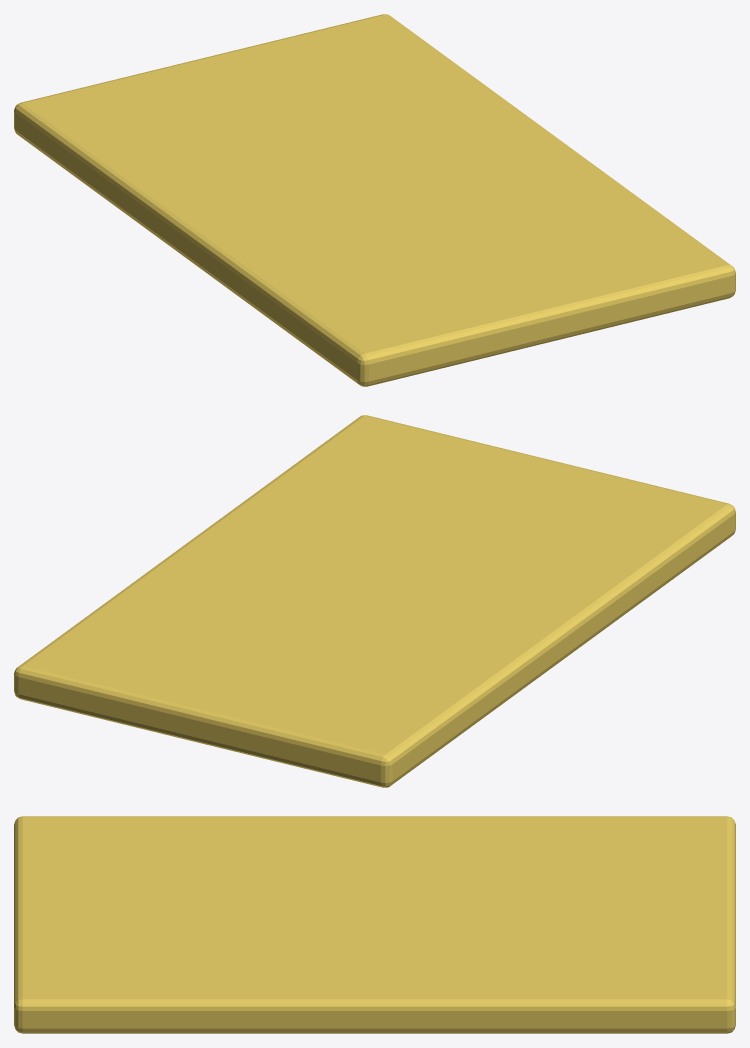
The model's file is Card.fbx.
The picture shows the model from 3 angles, top to bottom: view 1: azimuth 30°, elevation 25°; view 2: azimuth 150°, elevation 25°; view 3: azimuth 270°, elevation 25°; orthographic projection. The views are drawn at different scales.
Parts seen in each view (by area): view 1: Outline; view 2: Outline; view 3: Outline.
Part boxes in pixels (x1,y1,x2,y2): Outline: (14,14,735,386); Outline: (14,415,735,787); Outline: (14,816,735,1033).
Bounding box in the file's own units: 0.6401 × 1.03 × 0.0528.
